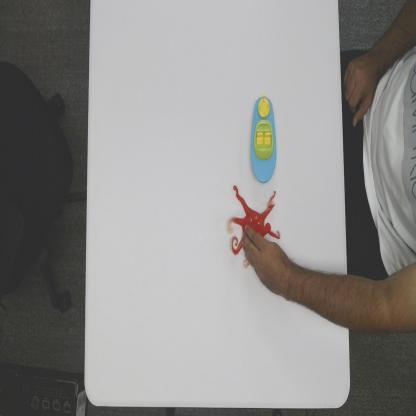Arm: (301, 265, 416, 337)
Boat: (249, 92, 278, 184)
Hand: (241, 222, 301, 300)
Octopus: (226, 184, 282, 272)
